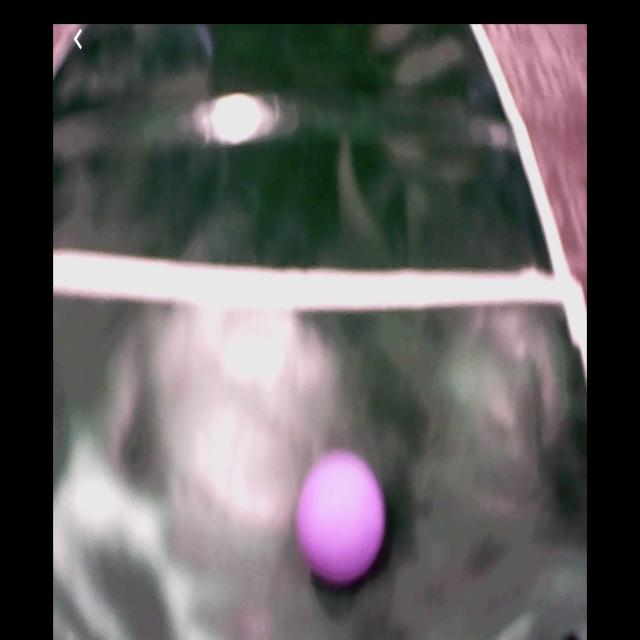ball: (298, 453, 387, 580)
